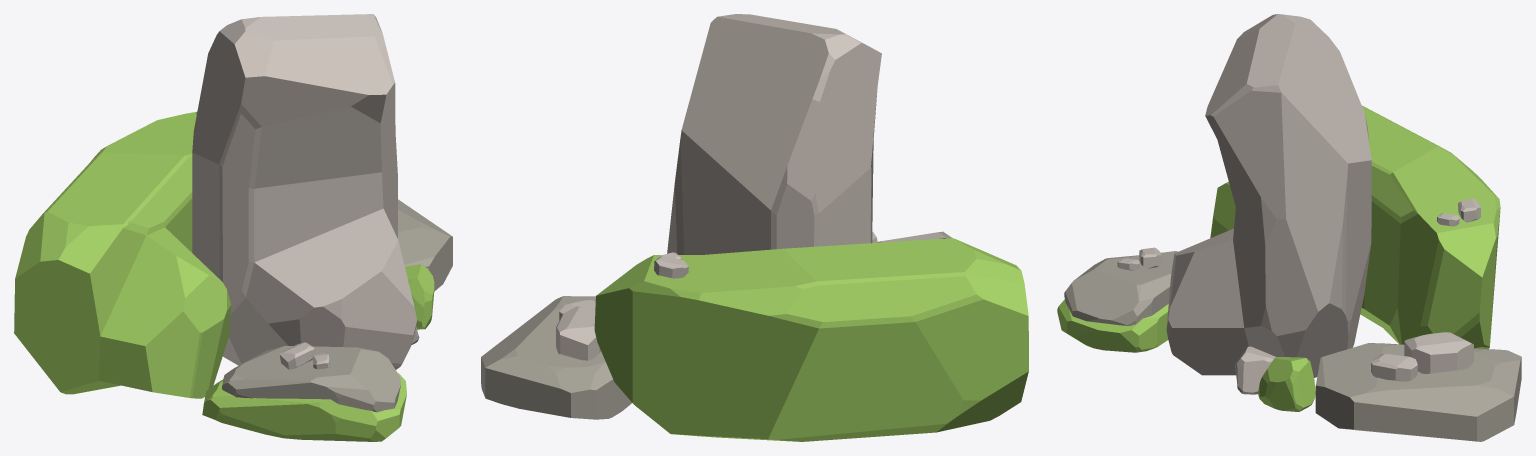
File: rocks_04.gltf
The picture shows the model from 3 angles, left to right: view 1: azimuth 30°, elevation 25°; view 2: azimuth 150°, elevation 25°; view 3: azimuth 270°, elevation 25°; orthographic projection. The views are drawn at different scales.
Parts seen in each view (by area): view 1: rocks_04; view 2: rocks_04; view 3: rocks_04.
Boxes of the visible parts, bbox=[...] form: rocks_04: bbox=[14, 14, 452, 441]; rocks_04: bbox=[481, 14, 1028, 441]; rocks_04: bbox=[1057, 14, 1521, 441].
Size of the model in its own units: 4.26 by 3.02 by 3.96.
1 material, 1 textured.
